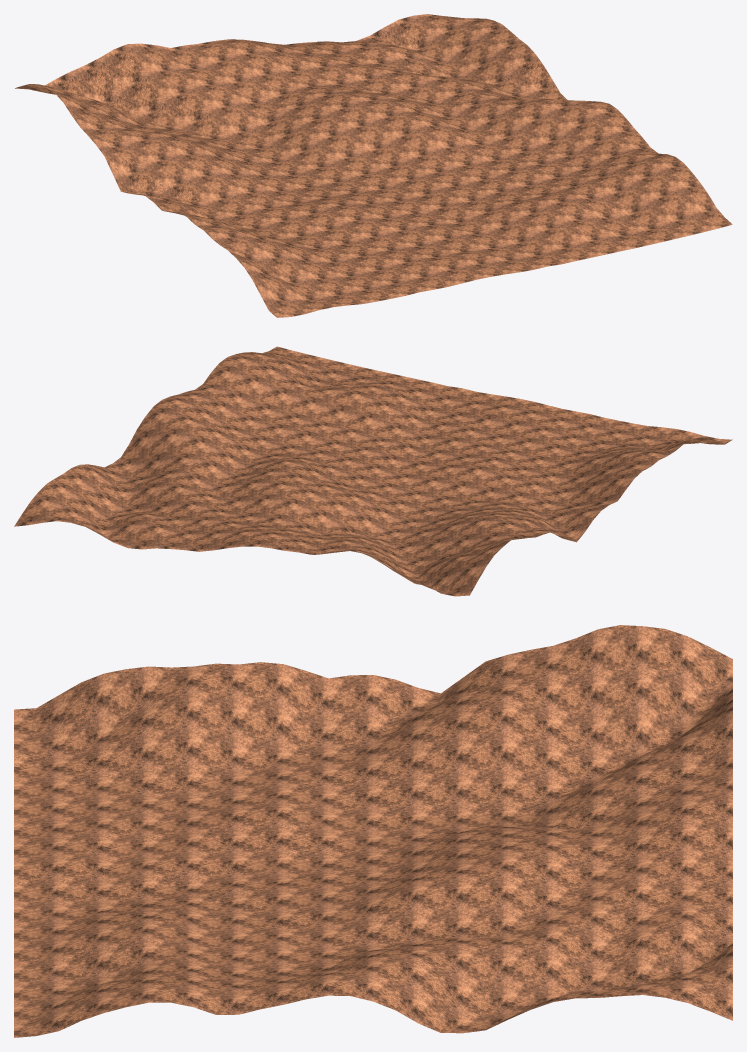
File: terrain_05_05.dae
3 renders of one model, top to bottom at view 1: azimuth 30°, elevation 25°; view 2: azimuth 150°, elevation 25°; view 3: azimuth 270°, elevation 25°, orthographic. The views are drawn at different scales.
Parts seen in each view (by area): view 1: terrain_05_05-node; view 2: terrain_05_05-node; view 3: terrain_05_05-node.
Part boxes in pixels (left/top/right/bottom): terrain_05_05-node: left=15, top=14, right=732, bottom=317; terrain_05_05-node: left=14, top=346, right=732, bottom=596; terrain_05_05-node: left=14, top=625, right=732, bottom=1037.
Size of the model in its own units: 128 by 128 by 21.53.
1 material, 1 textured.
